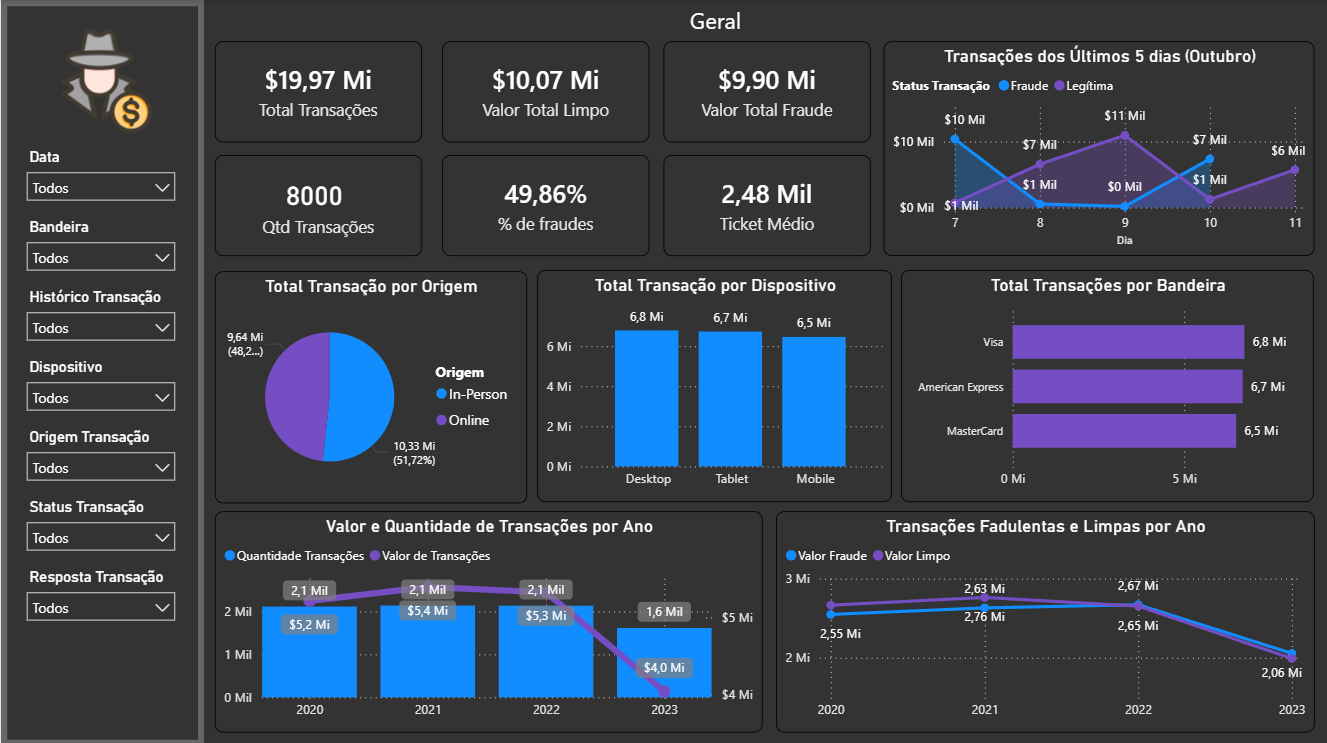

What the dashboard file says about the page in this screenshot:
{"tool":"powerbi","page":{"name":"Executivo","canvas":[1280,720],"ordinal":0},"visuals":[{"type":"shape","box":[0,0,196.2,720],"z":0,"group":"g1"},{"type":"lineStackedColumnComboChart","title":"Valor e Quantidade de Transações por Ano","fields":{"Category":["Calendario.Date.Variation.Hierarquia de datas.Ano"],"Y":["Medidas.qtd_transacoes"],"Y2":["Medidas.valor_total"]},"box":[206.2,493.8,528.8,213.8],"z":0},{"type":"cardVisual","fields":{"Data":["Medidas.valor_total"]},"box":[206.2,40,200,97.5],"z":1000},{"type":"slicer","fields":{"Values":["Calendario.Date"]},"box":[15,137.5,163.8,67.5],"z":1000,"group":"g1"},{"type":"slicer","fields":{"Values":["credito_fraudes_ouro.bandeira"]},"box":[15,205,163.8,67.5],"z":2000,"group":"g1"},{"type":"clusteredBarChart","title":"Total Transações por Bandeira","fields":{"Category":["credito_fraudes_ouro.bandeira"],"Y":["Sum(credito_fraudes_ouro.valor_transacao)"]},"box":[868.8,260,398.8,223.8],"z":2000},{"type":"pieChart","title":"Total Transação por Origem","fields":{"Y":["Sum(credito_fraudes_ouro.valor_transacao)"],"Category":["credito_fraudes_ouro.origem_transacao"]},"box":[206.2,261.2,301.2,223.8],"z":3000},{"type":"slicer","fields":{"Values":["credito_fraudes_ouro.origem_transacao"]},"box":[15,407.5,163.8,67.5],"z":3000,"group":"g1"},{"type":"clusteredColumnChart","title":"Total Transação por Dispositivo","fields":{"Category":["credito_fraudes_ouro.dispositivo"],"Y":["Sum(credito_fraudes_ouro.valor_transacao)"]},"box":[517.5,260,342.5,223.8],"z":4000},{"type":"slicer","fields":{"Values":["credito_fraudes_ouro.historico"]},"box":[15,272.5,163.8,67.5],"z":4000,"group":"g1"},{"type":"cardVisual","fields":{"Data":["Medidas.valor_total"]},"box":[640,40,200,97.5],"z":5000},{"type":"slicer","fields":{"Values":["credito_fraudes_ouro.dispositivo"]},"box":[15,340,163.8,67.5],"z":5000,"group":"g1"},{"type":"cardVisual","fields":{"Data":["Medidas.valor_total"]},"box":[426.2,40,200,97.5],"z":6000},{"type":"slicer","fields":{"Values":["credito_fraudes_ouro.status_transacao"]},"box":[15,475,163.8,67.5],"z":6000,"group":"g1"},{"type":"advanceCardE03760C5AB684758B56AA29F9E6C257B","fields":{"mainMeasure":["Medidas.qtd_transacoes"]},"box":[206.2,150,200,97.5],"z":7000},{"type":"slicer","fields":{"Values":["credito_fraudes_ouro.resposta"]},"box":[15,542.5,163.8,67.5],"z":7000,"group":"g1"},{"type":"lineChart","title":"Transações Fraudulentas e Legítimas por Ano","fields":{"Category":["Calendario.Date.Variation.Hierarquia de datas.Ano"],"Y":["Medidas.valor_total_fraude","Medidas.valor_total_limpo"]},"box":[747.5,493.8,520,213.8],"z":8000},{"type":"cardVisual","fields":{"Data":["Medidas.%qtd_fraude"]},"box":[426.2,150,200,97.5],"z":9000},{"type":"cardVisual","fields":{"Data":["Medidas.ticket medio"]},"box":[640,150,200,97.5],"z":10000},{"type":"areaChart","title":"Transações dos Últimos 5 dias (Outubro)","fields":{"Category":["credito_fraudes_ouro.data_hora.Variation.Hierarquia de datas.Dia"],"Y":["Medidas.valor_total"],"Series":["credito_fraudes_ouro.status_transacao"]},"box":[851.2,40,416.2,207.5],"z":11000},{"type":"group","id":"g1","title":"Grupo 1","box":[0,0,196.2,720],"z":12000},{"type":"textbox","box":[650,0,78.8,43.8],"z":13000},{"type":"image","box":[25,17.5,153.8,120],"z":14000}]}

Visuals, with their boxes in screenshot pixels (x1, y1, x2, y2), scaled from the page's 1280x720 canvas onto the 1327x743 screenshot:
shape: box(0, 0, 203, 742)
"Valor e Quantidade de Transações por Ano" lineStackedColumnComboChart: box(214, 510, 762, 730)
cardVisual - Medidas.valor_total: box(214, 41, 421, 142)
slicer - Calendario.Date: box(16, 142, 185, 212)
slicer - credito_fraudes_ouro.bandeira: box(16, 212, 185, 281)
"Total Transações por Bandeira" clusteredBarChart: box(901, 268, 1314, 499)
"Total Transação por Origem" pieChart: box(214, 270, 526, 500)
slicer - credito_fraudes_ouro.origem_transacao: box(16, 421, 185, 490)
"Total Transação por Dispositivo" clusteredColumnChart: box(537, 268, 892, 499)
slicer - credito_fraudes_ouro.historico: box(16, 281, 185, 351)
cardVisual - Medidas.valor_total: box(664, 41, 871, 142)
slicer - credito_fraudes_ouro.dispositivo: box(16, 351, 185, 421)
cardVisual - Medidas.valor_total: box(442, 41, 649, 142)
slicer - credito_fraudes_ouro.status_transacao: box(16, 490, 185, 560)
advanceCardE03760C5AB684758B56AA29F9E6C257B - Medidas.qtd_transacoes: box(214, 155, 421, 255)
slicer - credito_fraudes_ouro.resposta: box(16, 560, 185, 629)
"Transações Fraudulentas e Legítimas por Ano" lineChart: box(775, 510, 1314, 730)
cardVisual - Medidas.%qtd_fraude: box(442, 155, 649, 255)
cardVisual - Medidas.ticket medio: box(664, 155, 871, 255)
"Transações dos Últimos 5 dias (Outubro)" areaChart: box(882, 41, 1314, 255)
"Grupo 1" group: box(0, 0, 203, 742)
textbox: box(674, 0, 756, 45)
image: box(26, 18, 185, 142)
